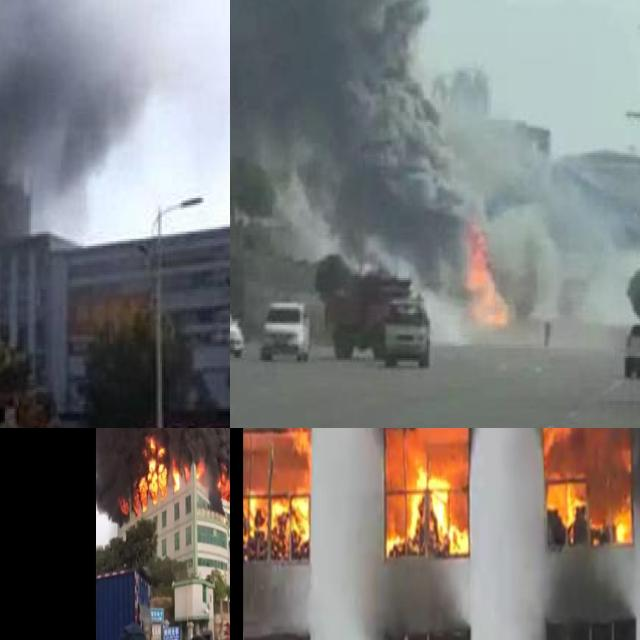fire: (538, 428, 636, 546), (383, 430, 469, 558), (242, 428, 312, 555), (459, 223, 508, 325), (130, 437, 195, 508), (215, 465, 230, 501)
smoke: (230, 0, 626, 330), (0, 0, 144, 197), (94, 428, 230, 511), (371, 558, 462, 637)
